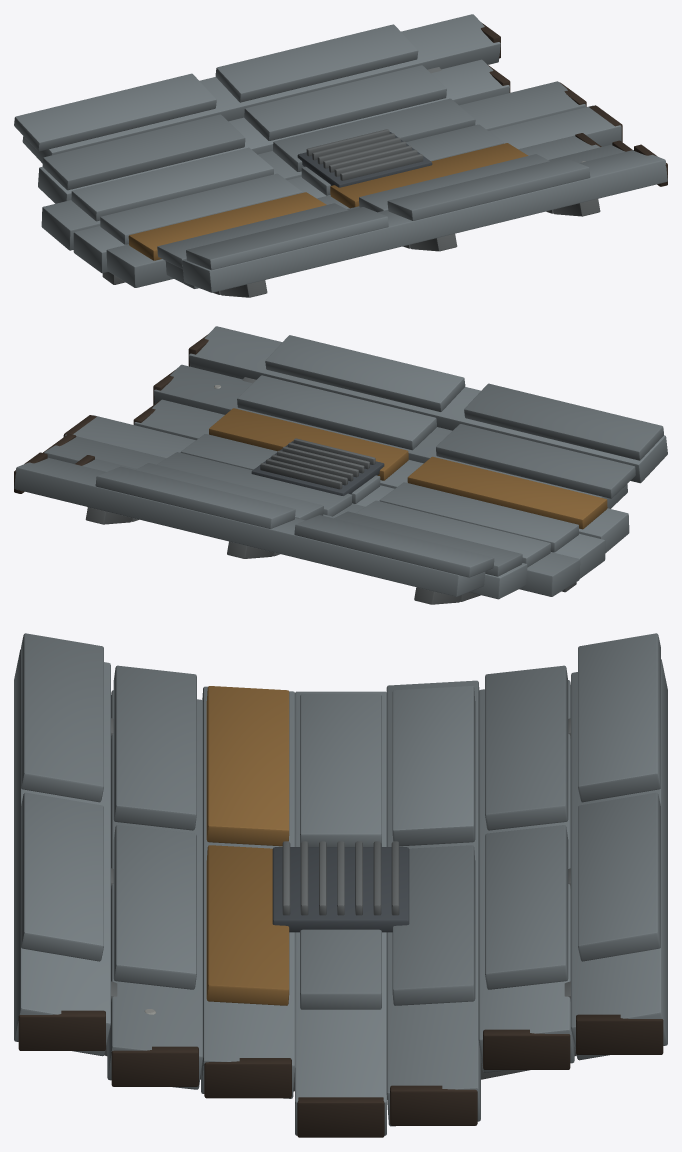
The model's file is hull_fragment.glb.
The picture shows the model from 3 angles, top to bottom: view 1: azimuth 30°, elevation 25°; view 2: azimuth 150°, elevation 25°; view 3: azimuth 270°, elevation 25°; orthographic projection. The views are drawn at different scales.
Visible parts, largest first — view 1: hull_fragment; view 2: hull_fragment; view 3: hull_fragment.
Part boxes in pixels (box(x1,y1,x2,y2)): hull_fragment: box(14, 14, 667, 297); hull_fragment: box(14, 326, 667, 604); hull_fragment: box(14, 633, 667, 1137).
Bounding box in the file's own units: 1.79 × 0.3002 × 1.19.
